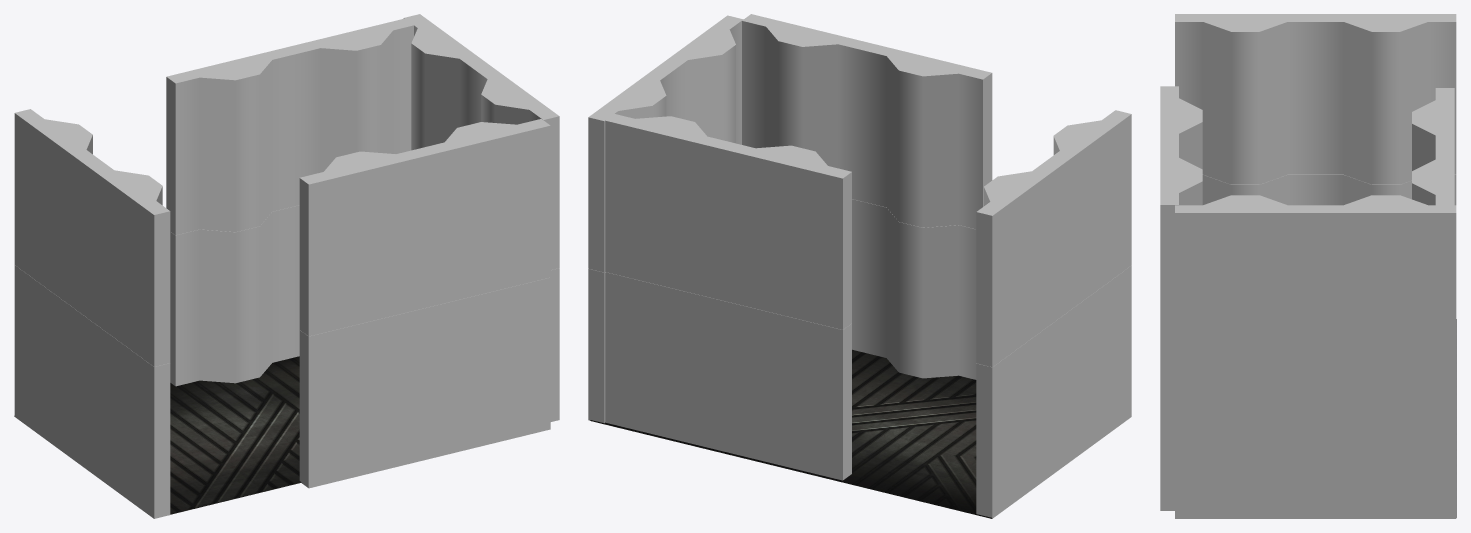
Rendered from Nivel 3.FBX.
3 views of the same model, side by side, from view 1: azimuth 30°, elevation 25°; view 2: azimuth 150°, elevation 25°; view 3: azimuth 270°, elevation 25° (orthographic).
Parts seen in each view (by area): view 1: Pared011, Pared015, Pared009, Pared010, Pared008, Suelo, Pared003, Pared014, Pared001, Pared002, Pared, Pared007 (+5 smaller); view 2: Pared011, Pared015, Pared013, Pared014, Pared012, Suelo, Pared003, Pared010, Pared001, Pared002, Pared, Pared007 (+5 smaller); view 3: Pared007, Pared003, Pared005, Pared004, Pared006, Pared002, Pared011, Pared015, Pared001, Pared008, Pared009, Pared010.
Part boxes in pixels (x1,y1,x2,y2): Pared011: (299, 119, 550, 260); Pared015: (166, 18, 416, 159); Pared009: (299, 277, 550, 412); Pared010: (299, 201, 550, 336); Pared008: (299, 353, 550, 488); Suelo: (14, 356, 301, 514); Pared003: (14, 109, 170, 290); Pared014: (166, 102, 411, 235); Pared001: (14, 265, 170, 442); Pared002: (14, 189, 170, 366); Pared: (14, 341, 170, 518); Pared007: (403, 14, 559, 193); Pared011: (742, 14, 992, 155); Pared015: (605, 114, 851, 254); Pared013: (605, 272, 851, 405); Pared014: (605, 196, 851, 329); Pared012: (605, 348, 851, 480); Suelo: (590, 349, 992, 518); Pared003: (976, 110, 1131, 291); Pared010: (742, 96, 992, 229); Pared001: (976, 265, 1131, 442); Pared002: (976, 190, 1131, 367); Pared: (976, 341, 1131, 518); Pared007: (588, 15, 743, 196); Pared007: (1175, 195, 1456, 289); Pared003: (1175, 14, 1456, 108); Pared005: (1175, 366, 1456, 442); Pared004: (1175, 442, 1456, 518); Pared006: (1175, 289, 1456, 365); Pared002: (1180, 98, 1456, 184); Pared011: (1160, 86, 1202, 281); Pared015: (1412, 88, 1454, 206); Pared001: (1202, 174, 1456, 205); Pared008: (1160, 434, 1174, 510); Pared009: (1160, 358, 1174, 434); Pared010: (1160, 281, 1174, 357).
Size of the model in its own units: 50290 by 36019 by 31645.
